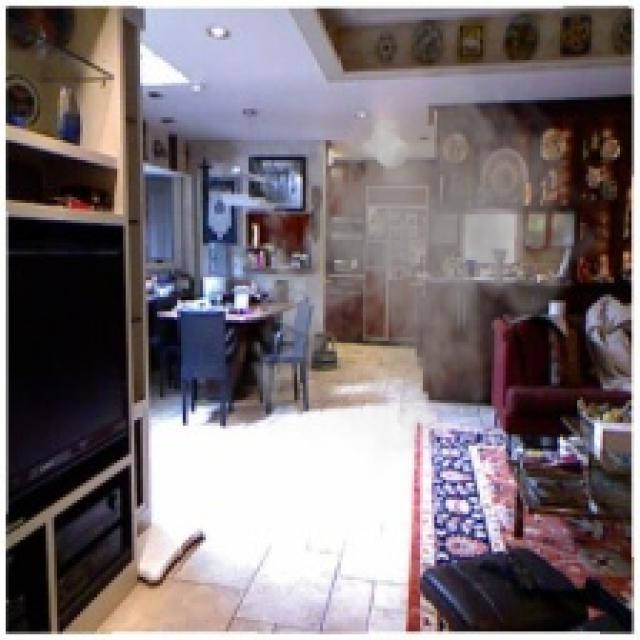Smoke: (240, 52, 600, 477)
